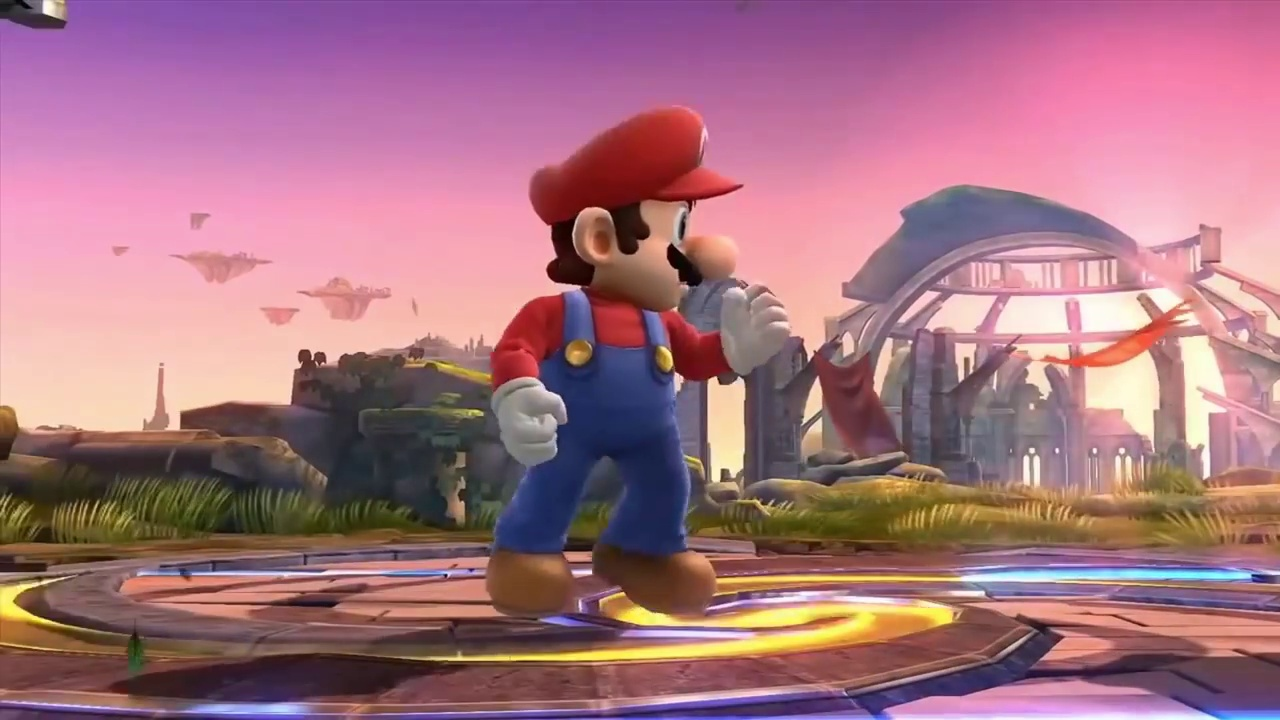Mario: (487, 107, 792, 615)
